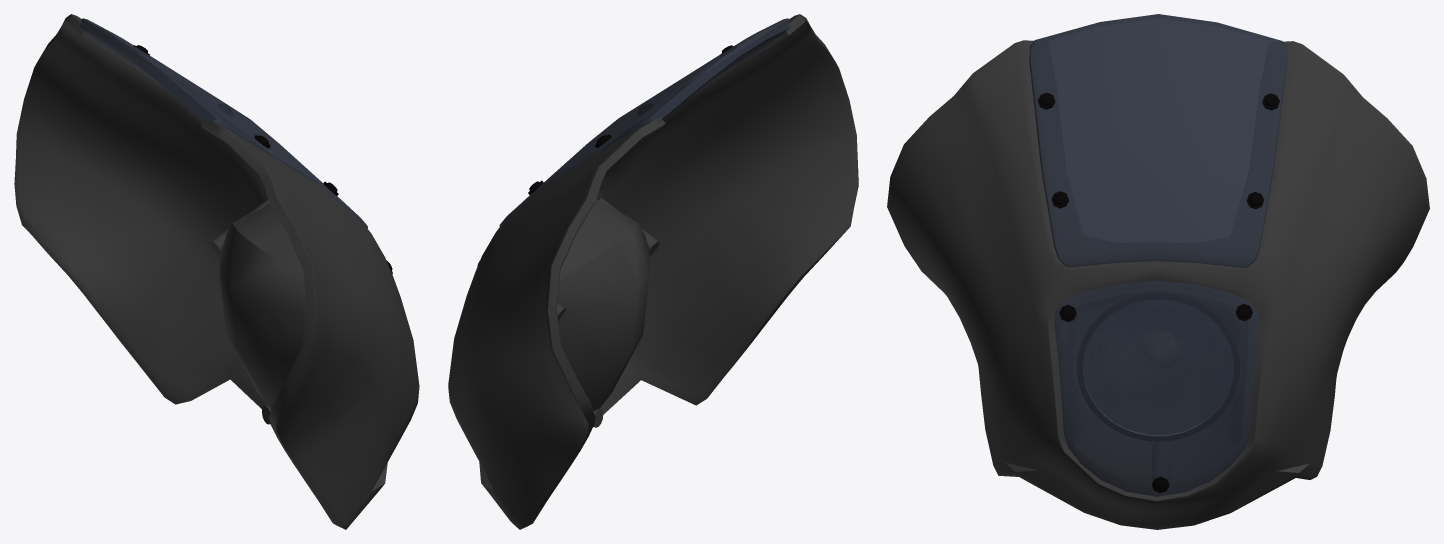
File: carena_club.glb
The picture shows the model from 3 angles, left to right: view 1: azimuth 30°, elevation 25°; view 2: azimuth 150°, elevation 25°; view 3: azimuth 270°, elevation 25°; orthographic projection. The views are drawn at different scales.
Parts seen in each view (by area): view 1: centra; view 2: centra; view 3: centra.
Part boxes in pixels (<box>): centra: <box>14,14,419,529</box>; centra: <box>448,14,858,529</box>; centra: <box>887,14,1429,529</box>.
Size of the model in its own units: 0.2789 by 0.5039 by 0.5778.
4 materials, 2 textured.
